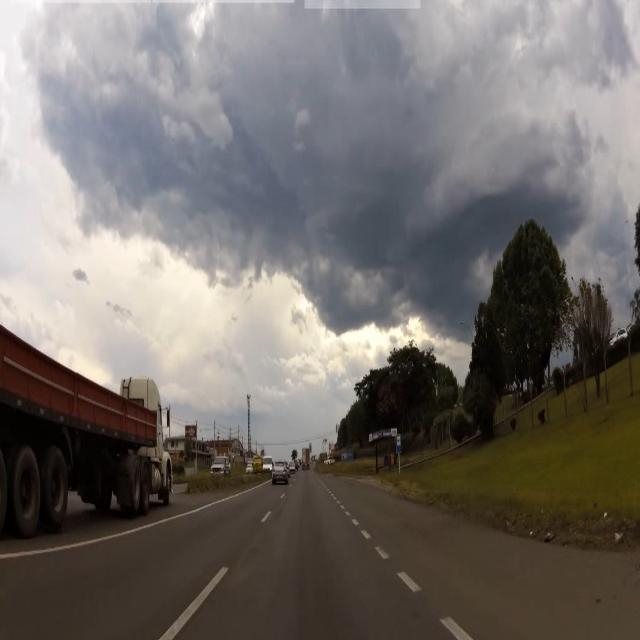S-14: (396, 433, 402, 455)
